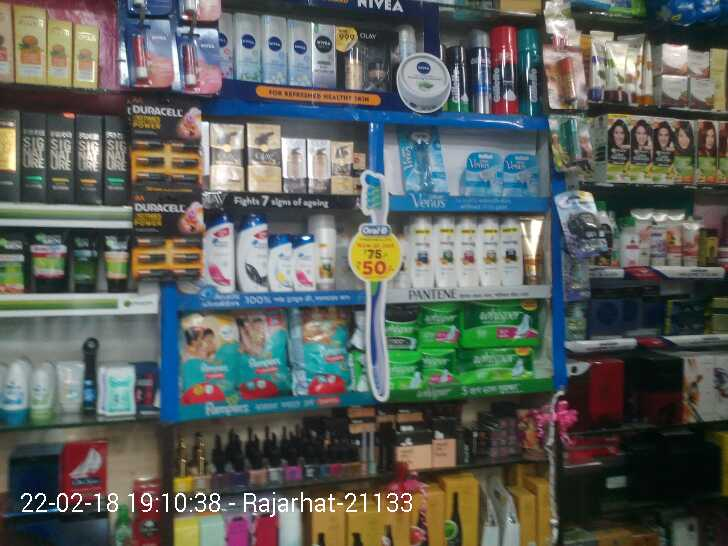gillete: (493, 26, 518, 113), (469, 26, 493, 113), (518, 28, 542, 112), (449, 44, 468, 110)
venus: (400, 127, 449, 193), (466, 153, 504, 197), (504, 154, 542, 197)
